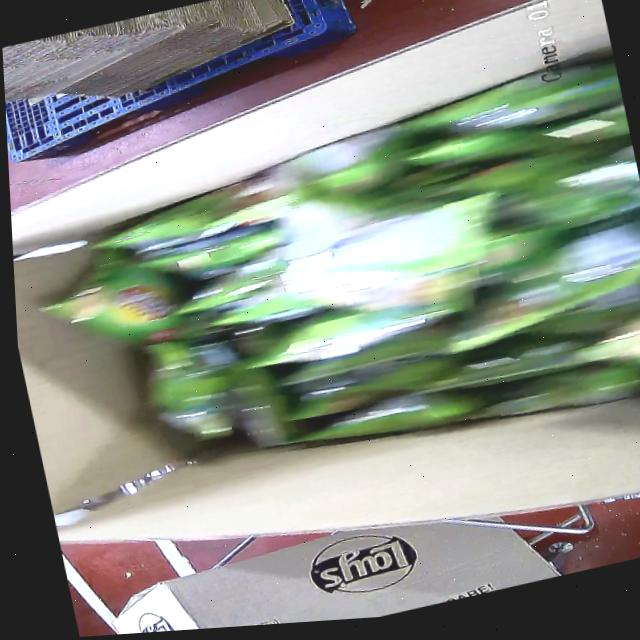YOGURT_HERB: (15, 90, 640, 520)
